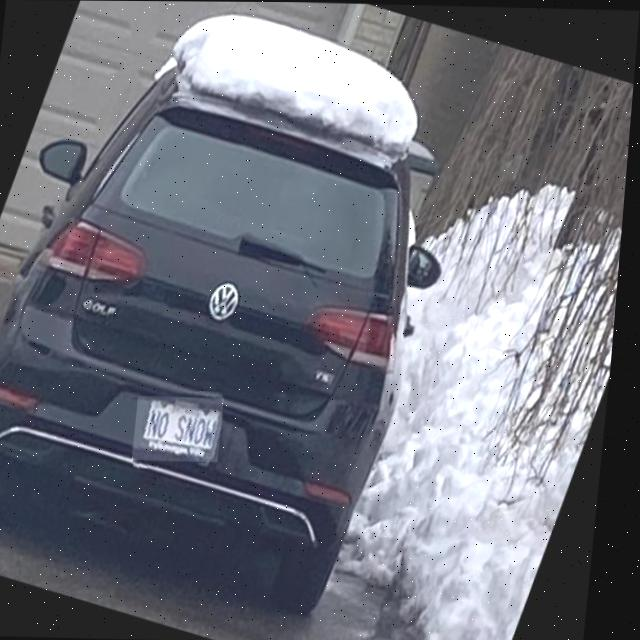LicensePlate: (140, 396, 229, 461)
